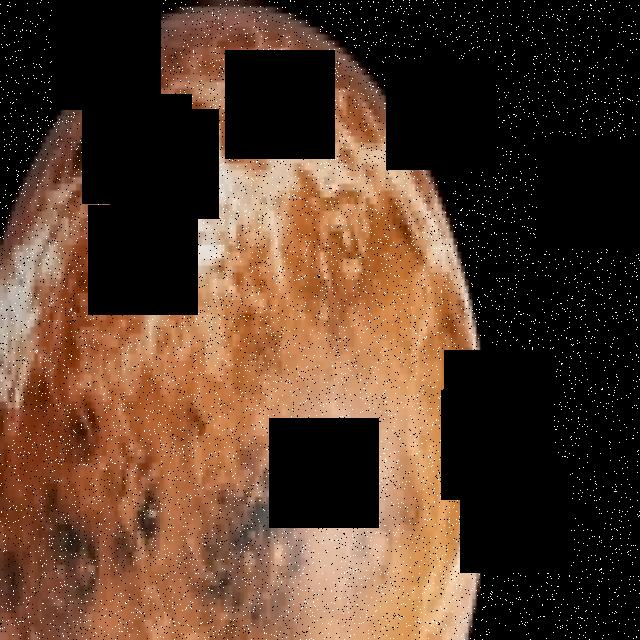Venus: (0, 0, 491, 640)
